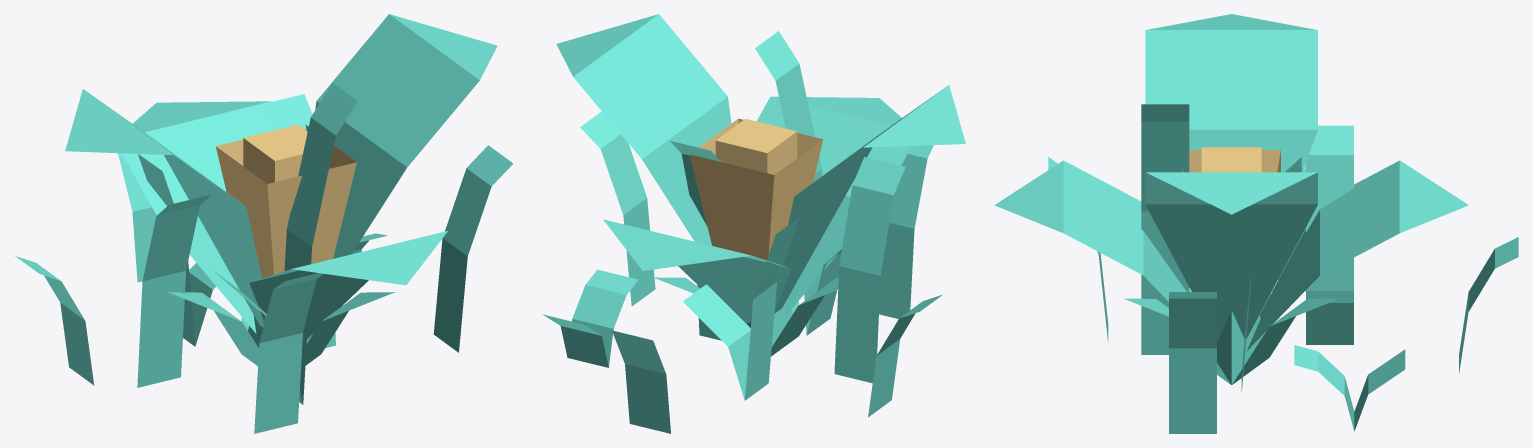
File: vegetation_kit.glb
3 renders of one model, left to right at view 1: azimuth 30°, elevation 25°; view 2: azimuth 150°, elevation 25°; view 3: azimuth 270°, elevation 25°, orthographic. The views are drawn at different scales.
Parts seen in each view (by area): view 1: plant_bush, grass, flower_yellowA; view 2: grass, plant_bush, flower_yellowA; view 3: plant_bush, grass, flower_yellowA.
Part boxes in pixels (box(x1,y1,x2,y2)): plant_bush: box(65, 14, 497, 338); grass: box(15, 83, 513, 433); flower_yellowA: box(167, 124, 395, 365); grass: box(542, 31, 942, 433); plant_bush: box(556, 14, 965, 323); flower_yellowA: box(653, 118, 841, 356); plant_bush: box(994, 14, 1468, 350); grass: box(1048, 104, 1518, 433); flower_yellowA: box(1124, 147, 1339, 385).
Size of the model in its own units: 0.3968 by 0.254 by 0.4373.
